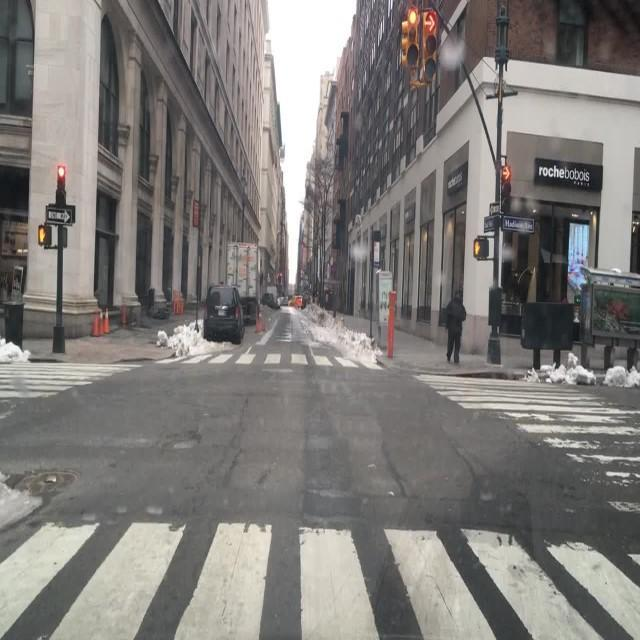normal: (186, 272, 265, 364)
